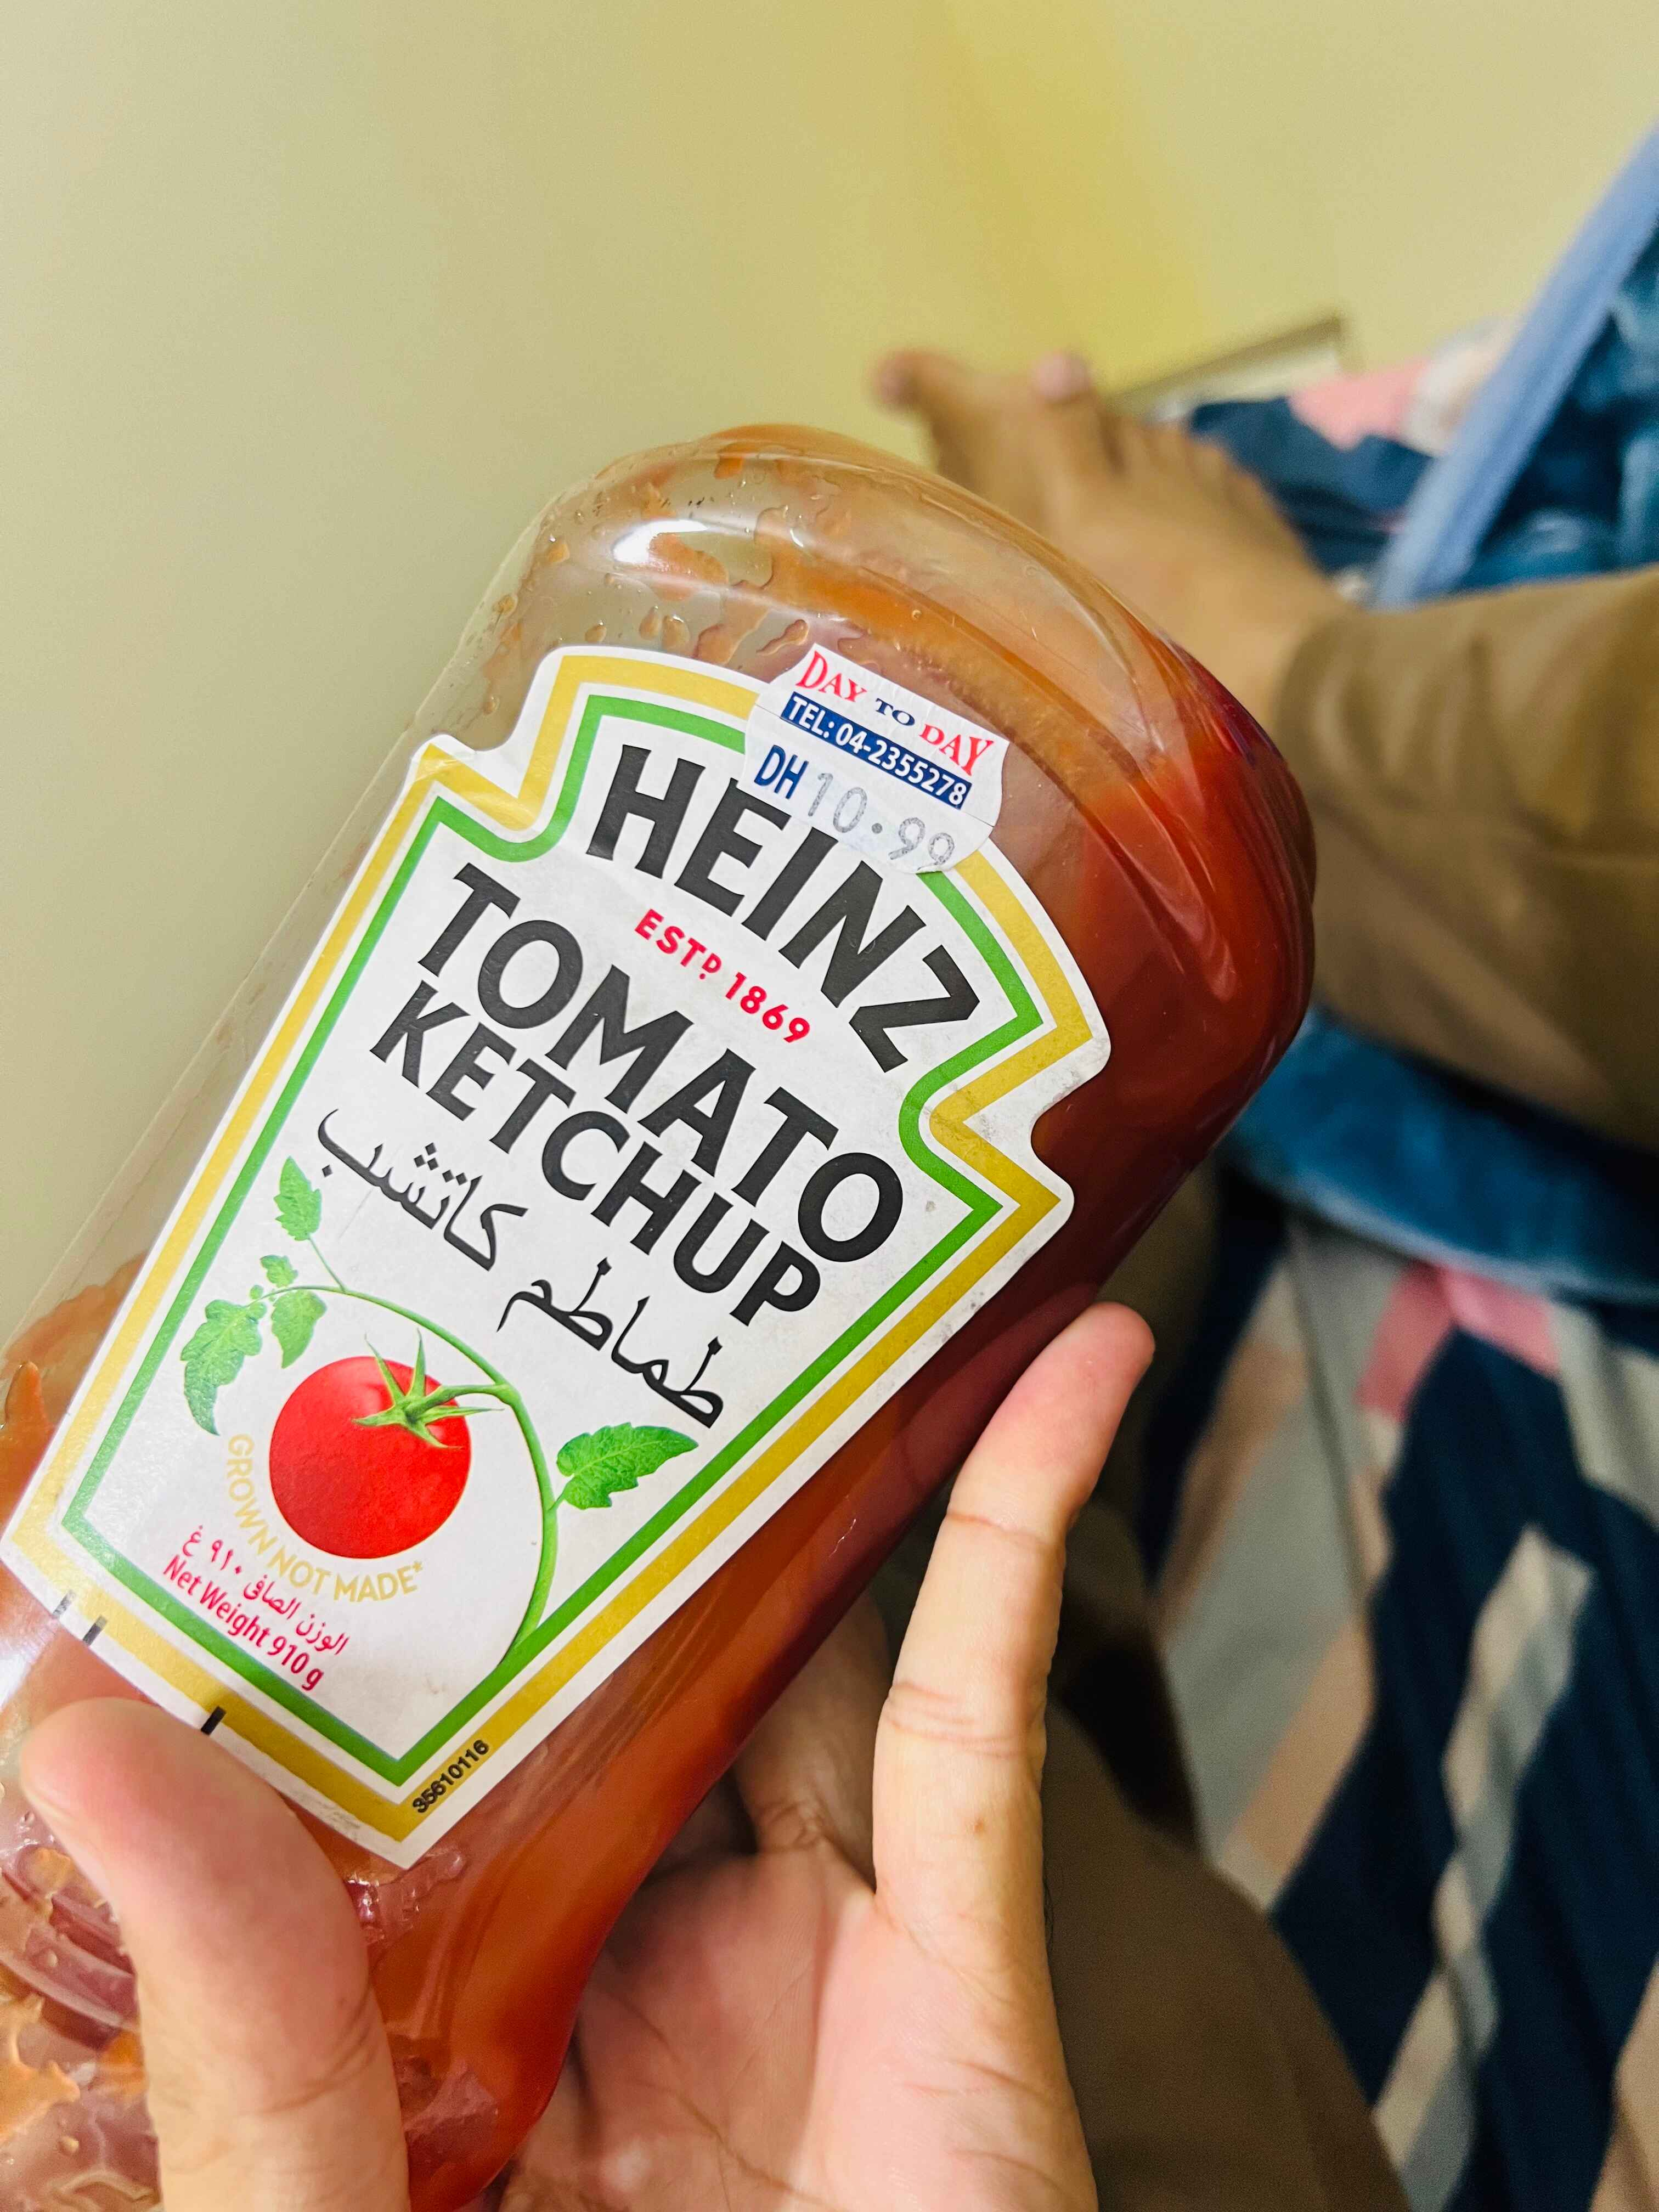PriceTagSmall: (739, 636, 1012, 876)
